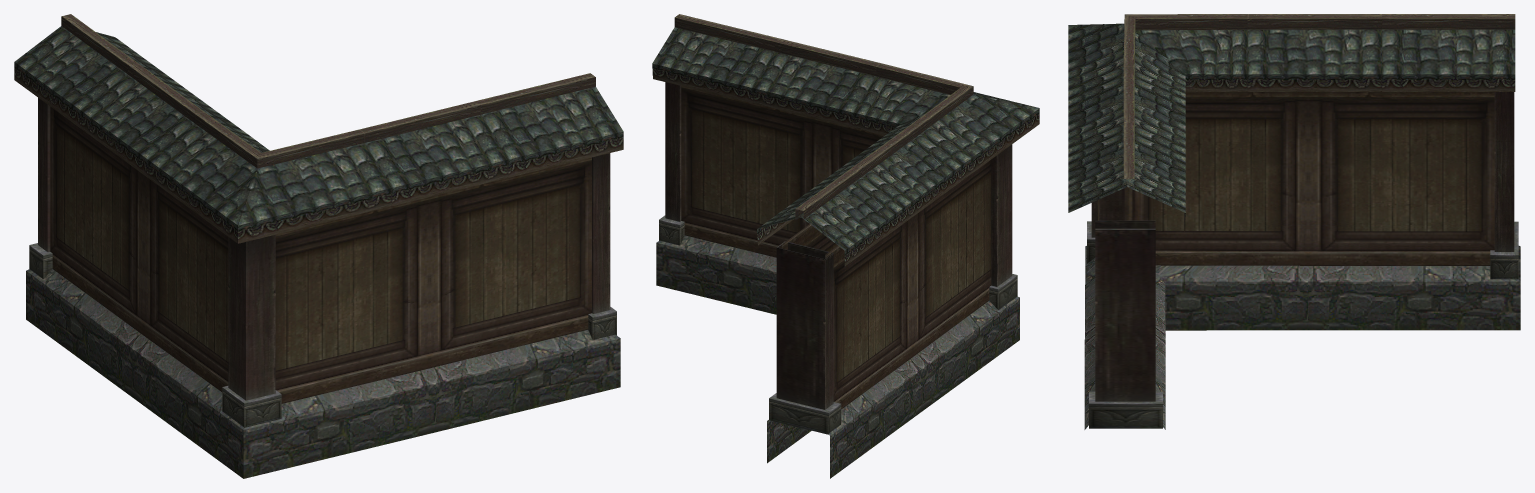
File: yw_juxianzhuang_pingjieqiang01.FBX
3 views of the same model, side by side, from view 1: azimuth 30°, elevation 25°; view 2: azimuth 150°, elevation 25°; view 3: azimuth 270°, elevation 25° (orthographic). The views are drawn at different scales.
Parts seen in each view (by area): view 1: yw_juxianzhuang_pingjieqiang01; view 2: yw_juxianzhuang_pingjieqiang01; view 3: yw_juxianzhuang_pingjieqiang01.
Part boxes in pixels (x1,y1,x2,y2): yw_juxianzhuang_pingjieqiang01: [14, 14, 623, 478]; yw_juxianzhuang_pingjieqiang01: [652, 14, 1039, 478]; yw_juxianzhuang_pingjieqiang01: [1068, 14, 1520, 429].
Size of the model in its own units: 490 by 356 by 491.
Materials: 1 (1 with a texture image).
